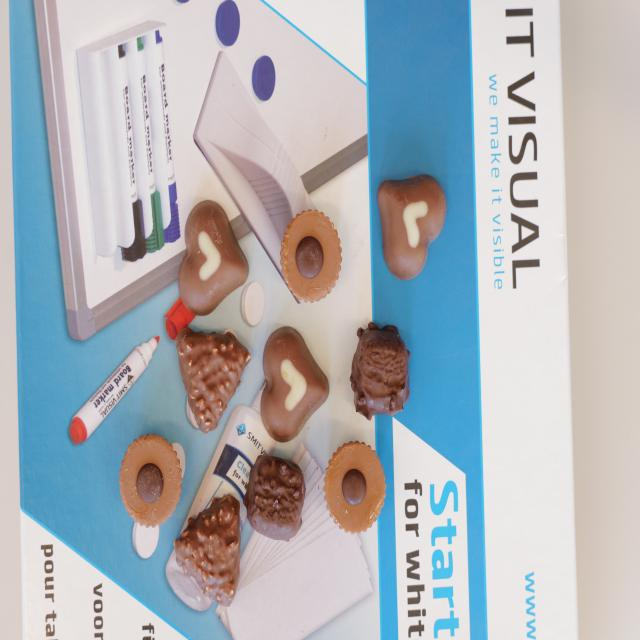Noblesse: (281, 208, 342, 303), (326, 440, 386, 534), (121, 435, 182, 527)
Passion_au_lait: (179, 197, 247, 313), (263, 325, 329, 439), (379, 173, 447, 277)
Tentation_noir: (353, 323, 408, 412), (250, 451, 303, 540)
Triangolo: (176, 493, 245, 605), (176, 328, 251, 430)
